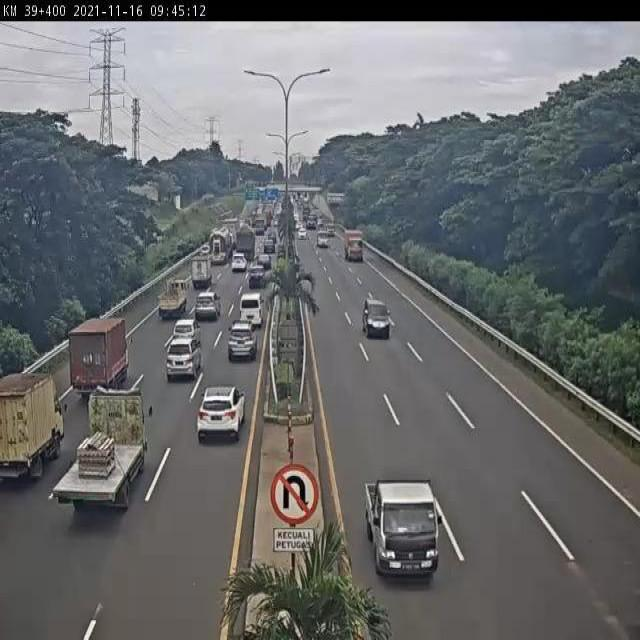car: (366, 478, 444, 578), (194, 388, 243, 444), (165, 338, 204, 382), (360, 297, 392, 339), (228, 320, 256, 360), (195, 291, 222, 324), (172, 320, 197, 345), (245, 264, 266, 288)
small bus: (239, 294, 261, 326)
small truck: (0, 371, 63, 478), (158, 280, 188, 320), (192, 253, 214, 287)
truck-m-: (49, 389, 146, 512), (68, 319, 131, 392)
